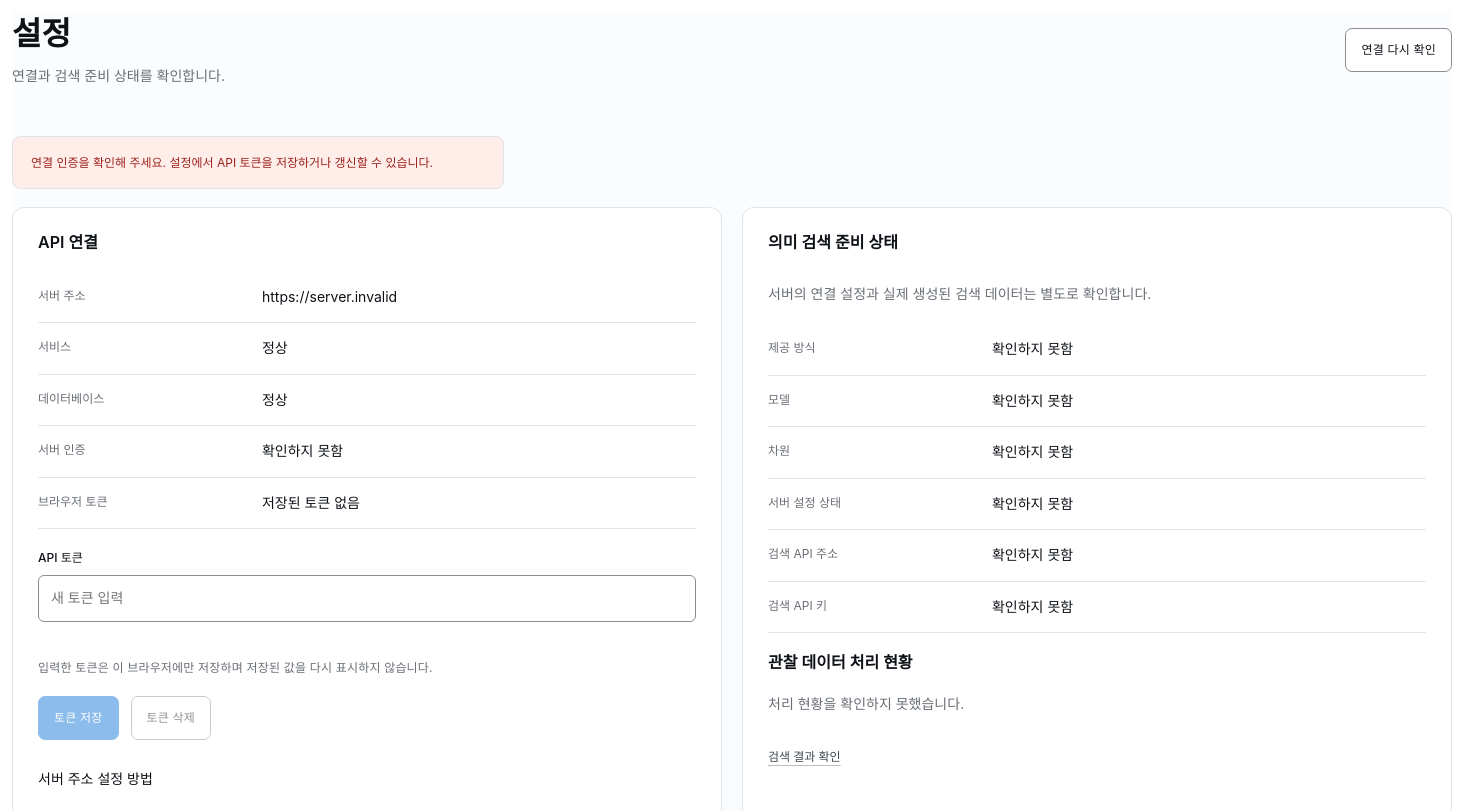
Scenario: 새 설정 화면 › 인증 실패를 확인 불가로 표시하고 토큰 저장·삭제 후 다시 검사하며 비밀 값을 표시하지 않는다
Expected: the message shows "연결 인증", [31,155,433,170]
Expected: the text "확인하지 못함" in the row of "서버 인증" is shown, [262,442,343,459]
Type "private-token" into the password field labelled "API 토큰" at (367, 598), box [38,575,696,622]
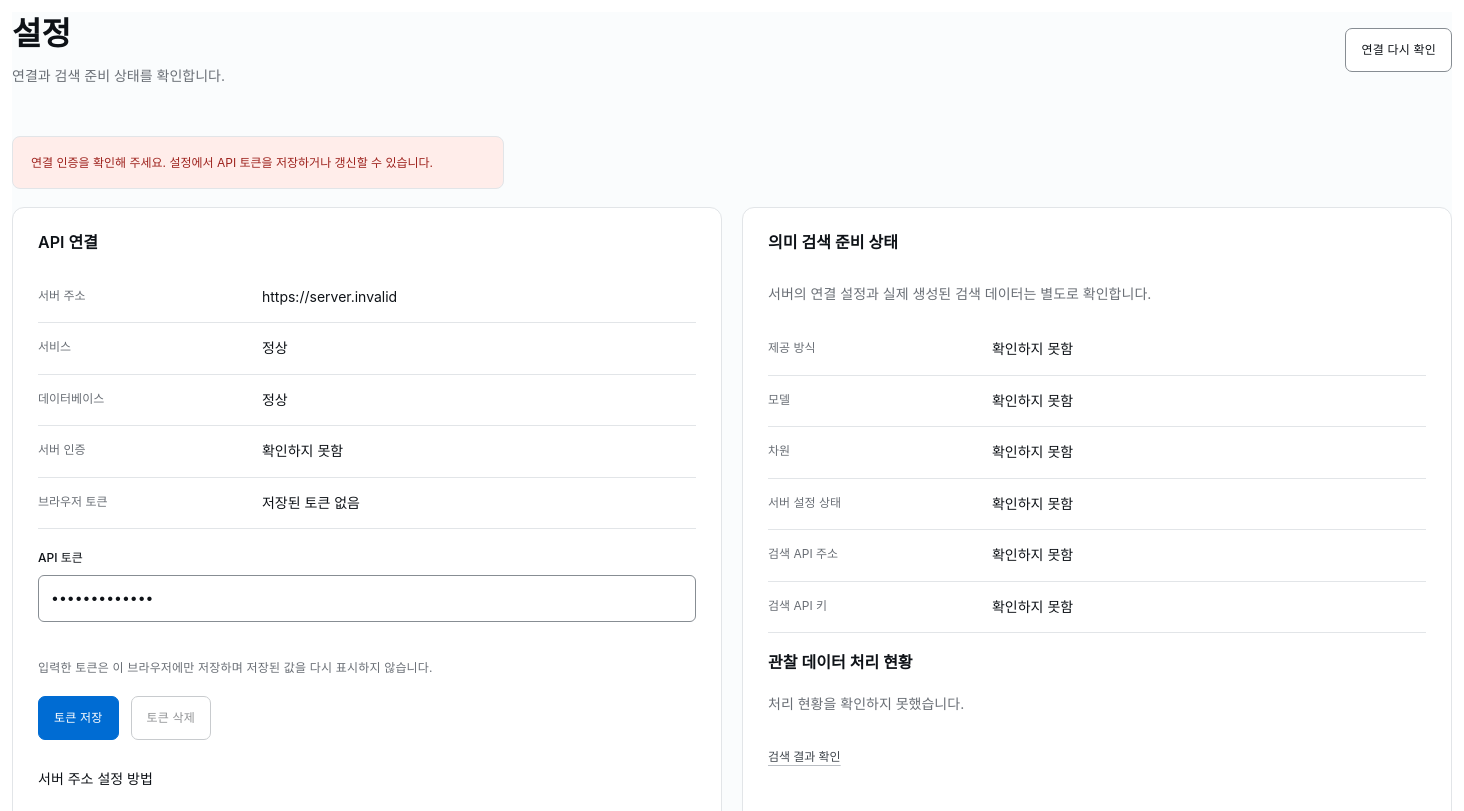
Click the button "토큰 저장" at (78, 718), box [38,696,119,740]
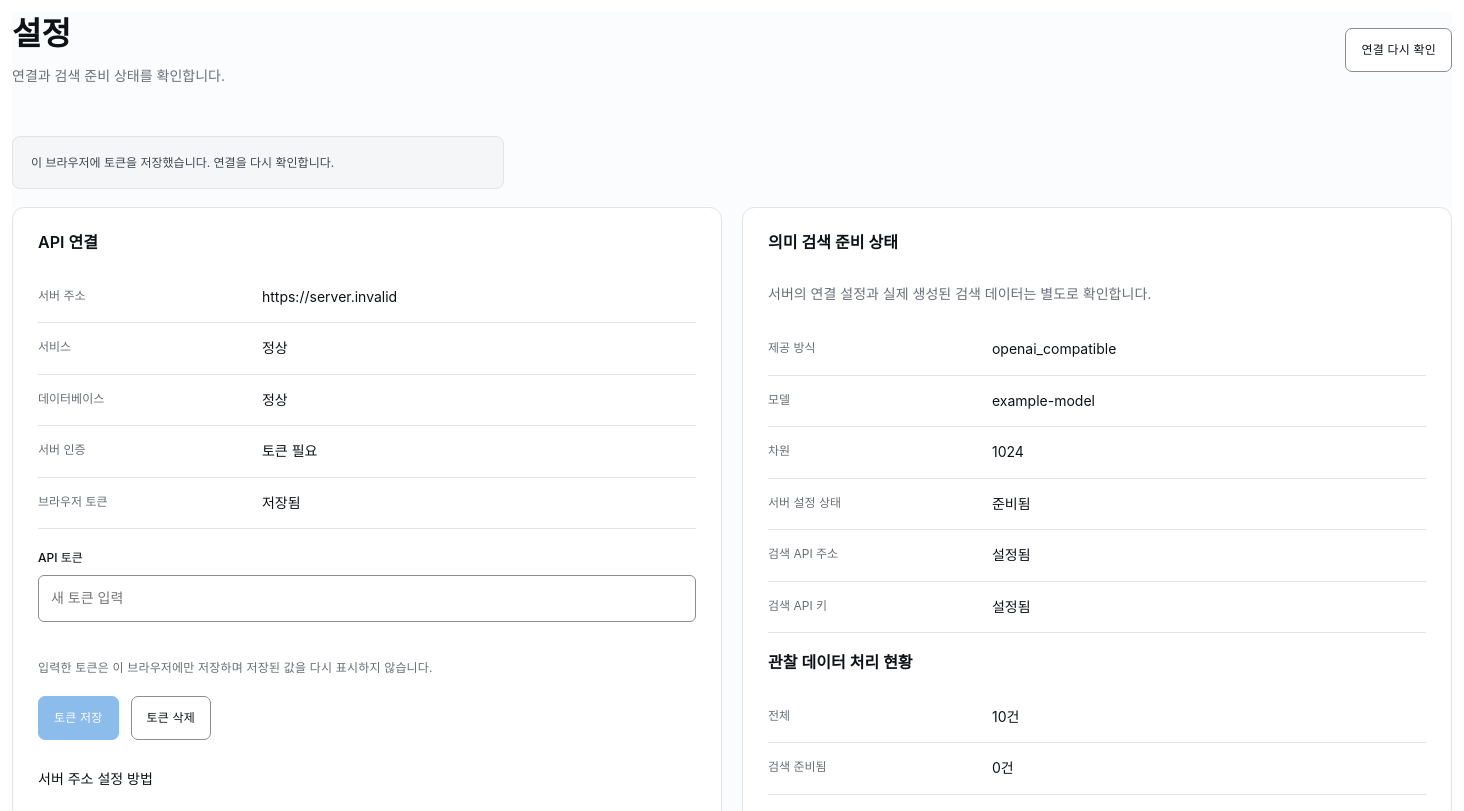
Expected: the text "토큰 필요" is shown, [262,442,318,459]
Expected: the password field labelled "API 토큰" is empty, [38,575,696,622]
Expected: the text "0건" is shown, [992,759,1014,776]
Click the button "토큰 삭제" at (171, 718), box [131,696,211,740]
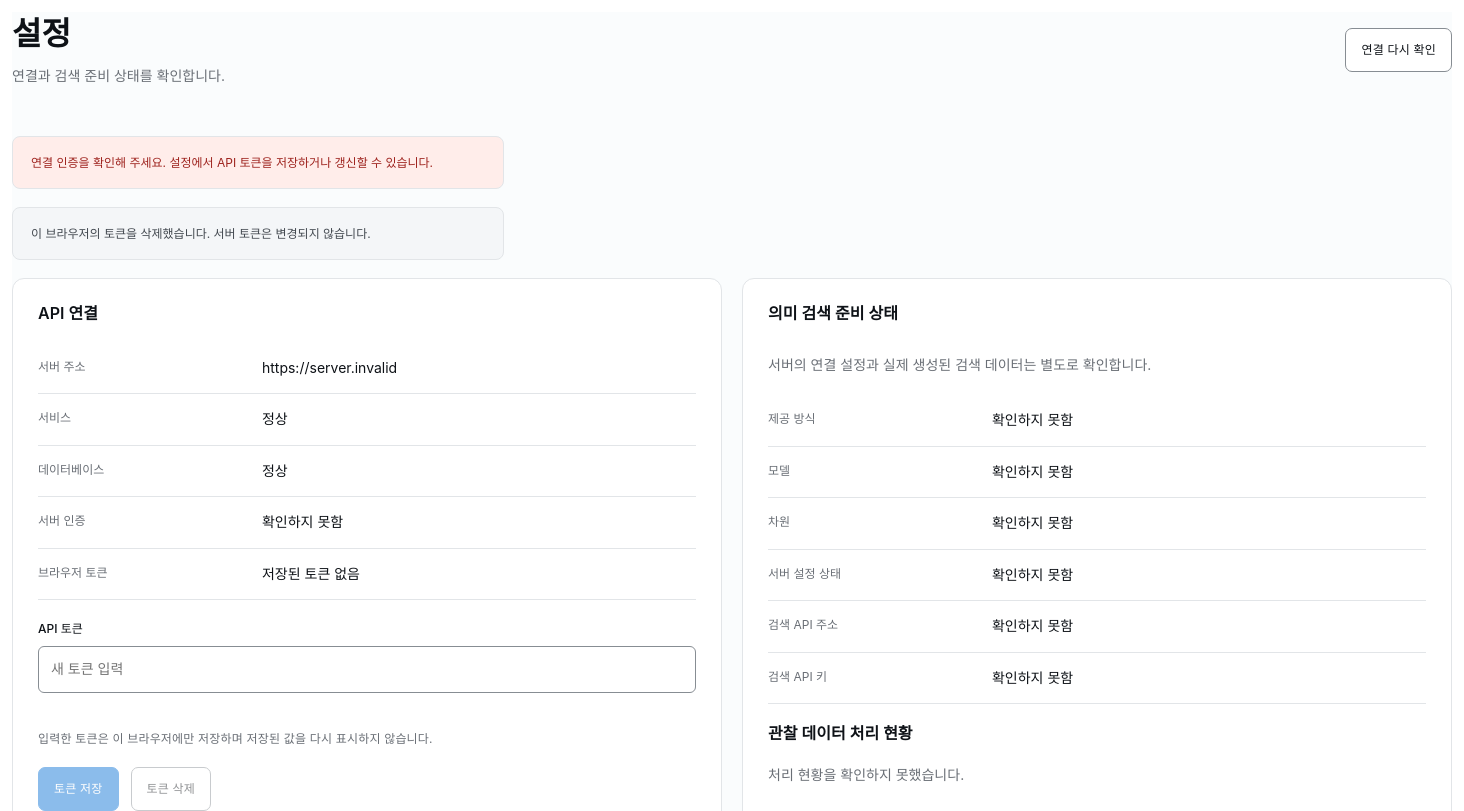
Expected: the message "연결 인증을 확인해 주세요. 설정에서 API 토큰을 저장하거나 갱신할 수 있습니다." is shown, [12,136,504,189]
Expected: the text "확인하지 못함" in the row of "서버 인증" is shown, [262,513,343,530]
Expected: the text "example-model" is gone
